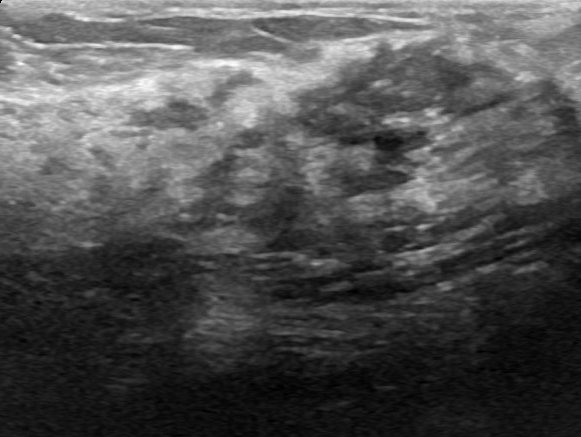Benign: (365, 121, 410, 163)
Normal: (4, 19, 581, 408)
